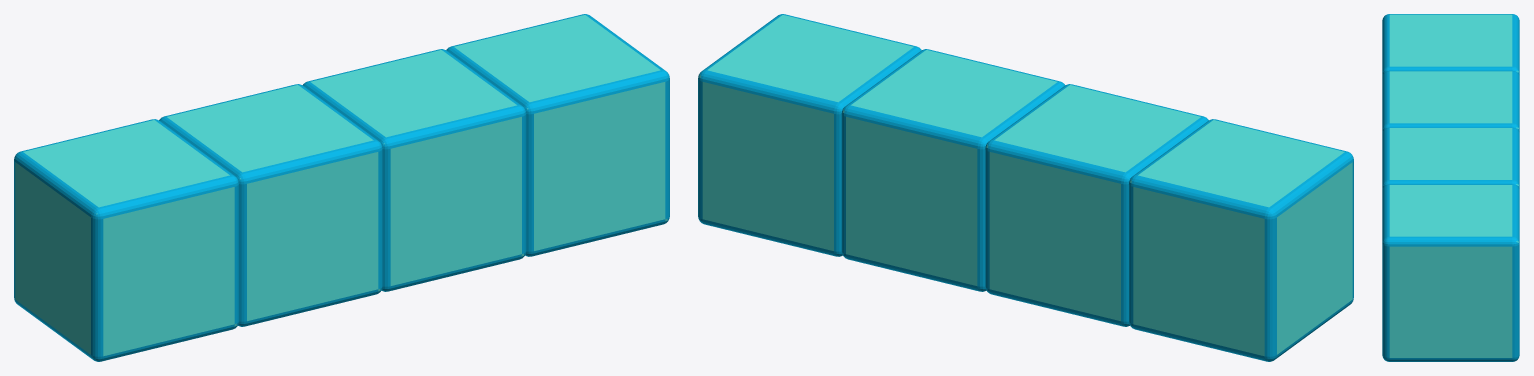
Rendered from sky.glb.
The picture shows the model from 3 angles, left to right: view 1: azimuth 30°, elevation 25°; view 2: azimuth 150°, elevation 25°; view 3: azimuth 270°, elevation 25°; orthographic projection. The views are drawn at different scales.
Visible parts, largest first — view 1: Cube.003, Cube.004, Cube.001, Cube.002; view 2: Cube.003, Cube.004, Cube.001, Cube.002; view 3: Cube.001, Cube.004, Cube.002, Cube.003.
Part boxes in pixels (bbox=[...]): Cube.003: bbox=[14, 119, 238, 361]; Cube.004: bbox=[302, 49, 526, 291]; Cube.001: bbox=[446, 14, 669, 256]; Cube.002: bbox=[159, 84, 382, 326]; Cube.003: bbox=[1129, 119, 1353, 361]; Cube.004: bbox=[841, 49, 1065, 291]; Cube.001: bbox=[698, 14, 921, 256]; Cube.002: bbox=[985, 84, 1208, 326]; Cube.001: bbox=[1382, 184, 1519, 361]; Cube.004: bbox=[1382, 127, 1519, 189]; Cube.002: bbox=[1382, 70, 1519, 133]; Cube.003: bbox=[1382, 14, 1519, 76].
Bounding box in the file's own units: 4.02 × 1.02 × 1.02.
